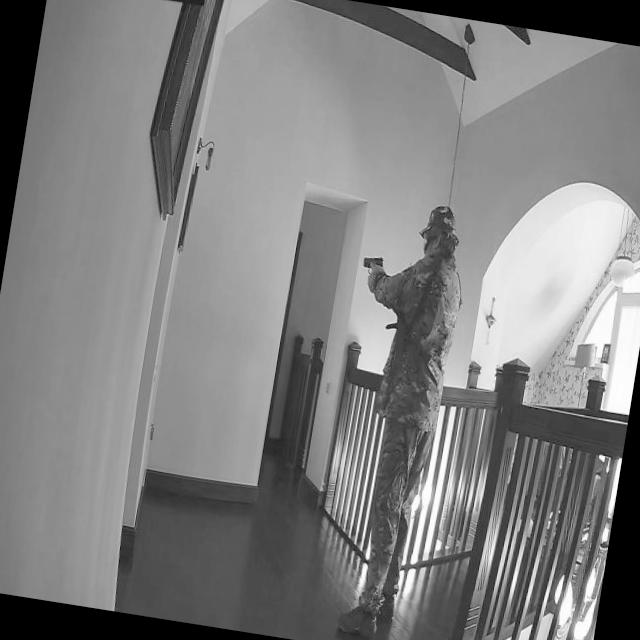gun: (358, 251, 386, 288)
person with a gun: (329, 196, 476, 640)
